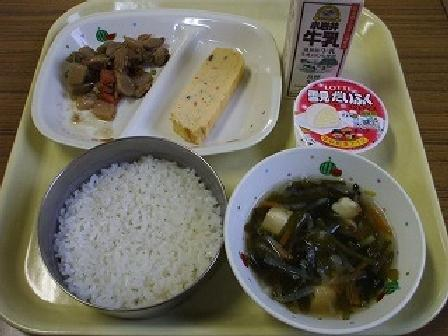Bread: (161, 34, 273, 144)
Milk: (276, 0, 369, 96)
Rice: (33, 139, 221, 324)
Soups: (228, 156, 431, 326)
cooked food meat with vegetables: (52, 24, 168, 120)
